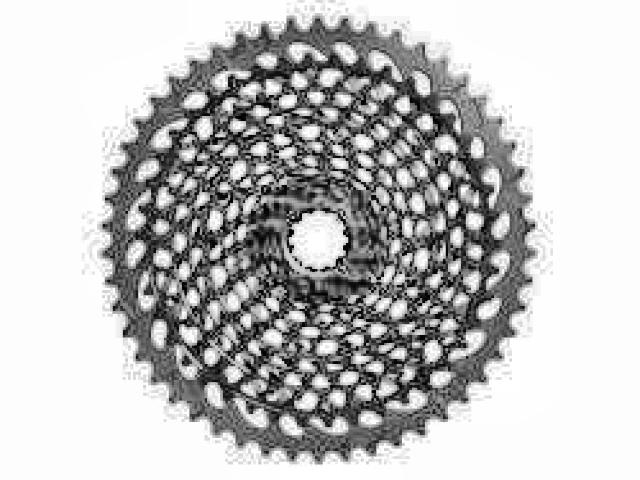cassette: (102, 18, 539, 459)
